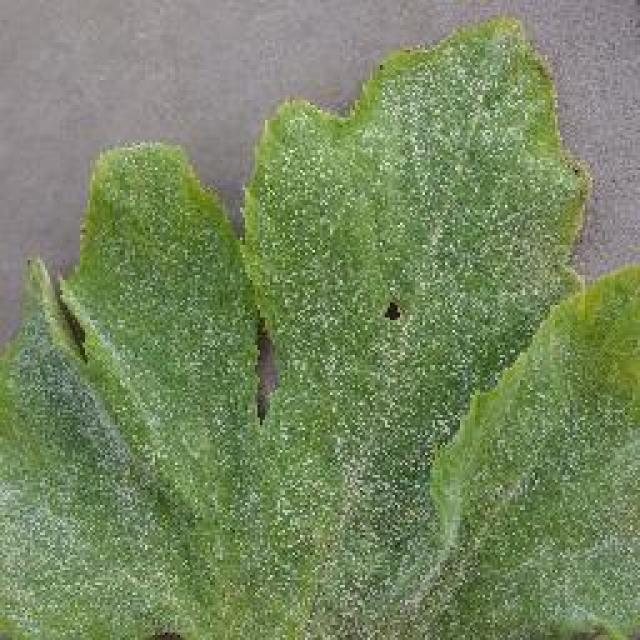Squ_Powdery_mildew: (325, 74, 574, 598), (12, 360, 300, 632)
